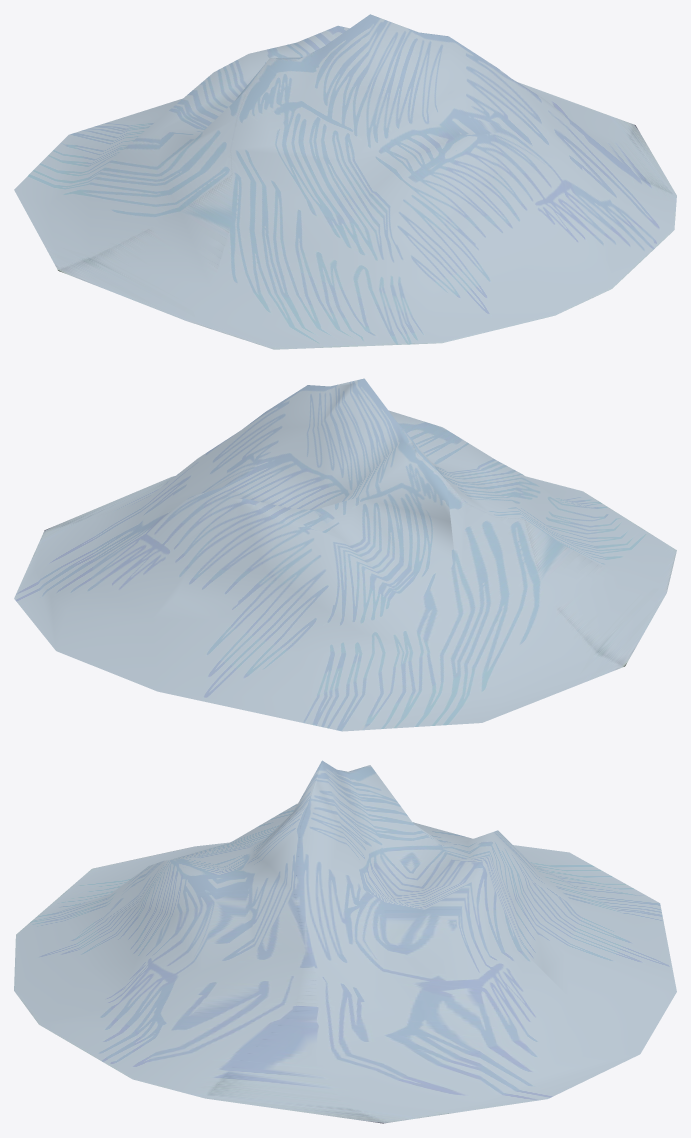
The model's file is mountain_2050.glb.
The picture shows the model from 3 angles, top to bottom: view 1: azimuth 30°, elevation 25°; view 2: azimuth 150°, elevation 25°; view 3: azimuth 270°, elevation 25°; orthographic projection. The views are drawn at different scales.
Visible parts, largest first — view 1: Mountain; view 2: Mountain; view 3: Mountain.
Boxes of the visible parts, x1=… form: Mountain: x1=14, y1=14, x2=676, y2=349; Mountain: x1=14, y1=378, x2=676, y2=731; Mountain: x1=14, y1=760, x2=676, y2=1123.
Bounding box in the file's own units: 91.27 × 30.68 × 86.16.
Materials: 1 (1 with a texture image).
